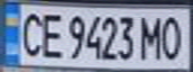2: (100, 12, 121, 61)
3: (115, 12, 139, 61)
4: (84, 11, 103, 61)
9: (63, 11, 87, 61)
C: (15, 8, 45, 59)
E: (36, 9, 66, 60)
M: (136, 12, 166, 61)
O: (160, 12, 187, 61)
